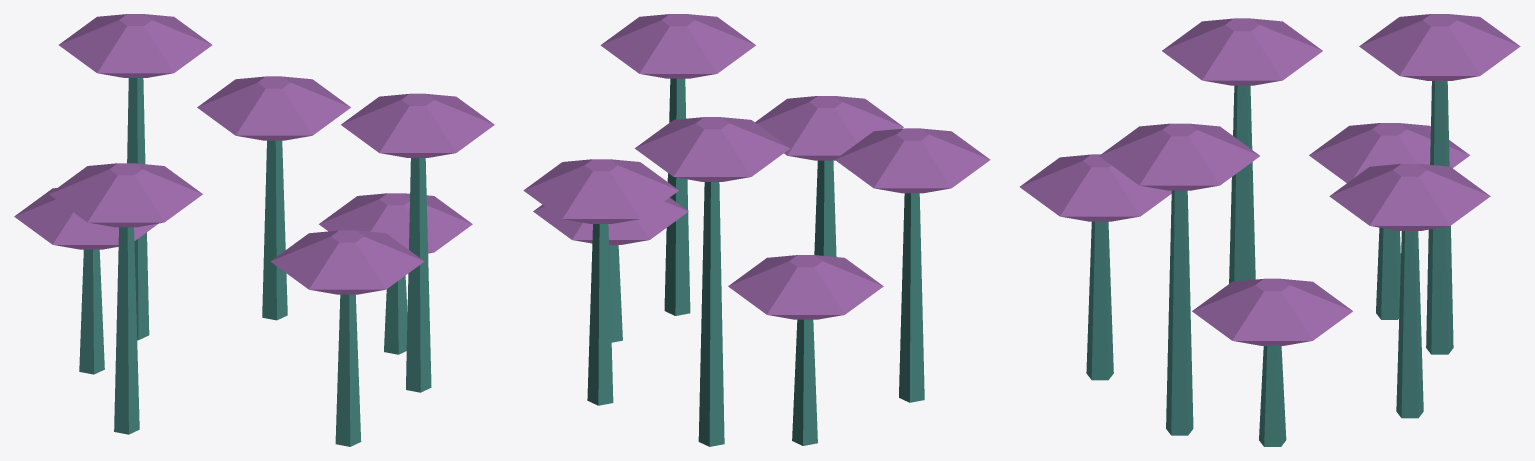
File: Nature_Fungal_Cluster.glb
3 renders of one model, left to right at view 1: azimuth 30°, elevation 25°; view 2: azimuth 150°, elevation 25°; view 3: azimuth 270°, elevation 25°, orthographic. The views are drawn at different scales.
Visible parts, largest first — view 1: Nature_Fungal_Cluster; view 2: Nature_Fungal_Cluster; view 3: Nature_Fungal_Cluster.
Boxes of the visible parts, <box> form: Nature_Fungal_Cluster: <box>14,14,494,446</box>; Nature_Fungal_Cluster: <box>523,14,990,446</box>; Nature_Fungal_Cluster: <box>1020,14,1520,446</box>.
Size of the model in its own units: 0.8379 by 0.63 by 0.8685.
